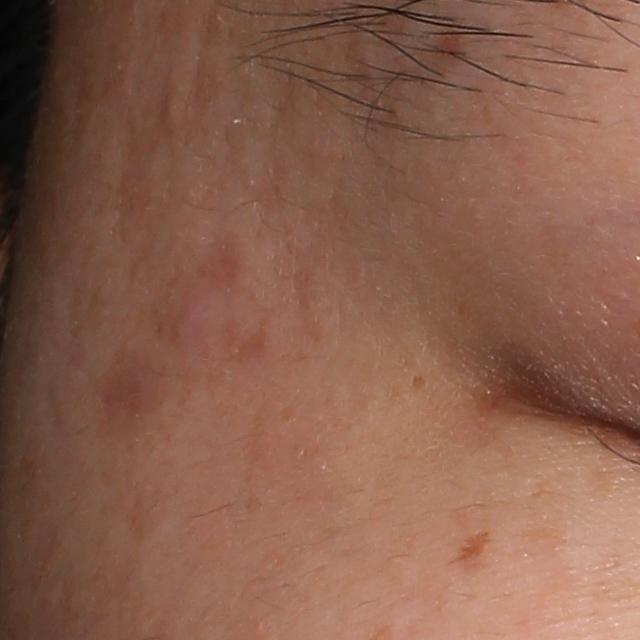comedo: (158, 83, 187, 121)
melasma: (216, 303, 282, 362), (447, 528, 493, 566), (404, 368, 433, 392)
